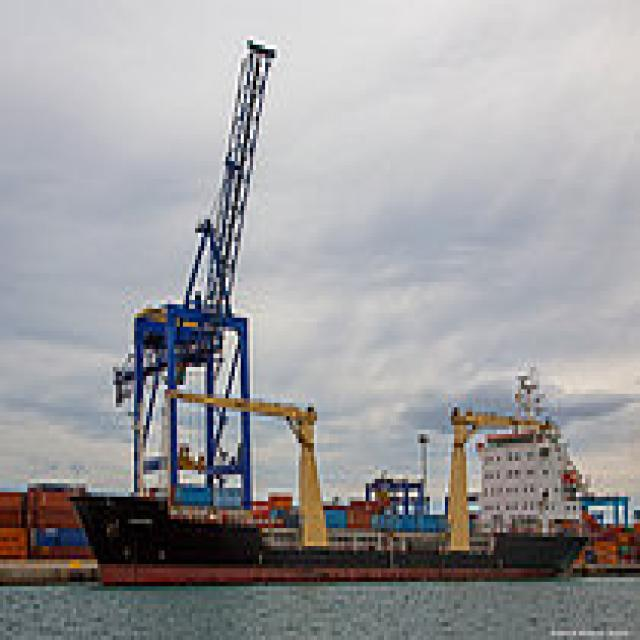Ship: (59, 377, 596, 592)
